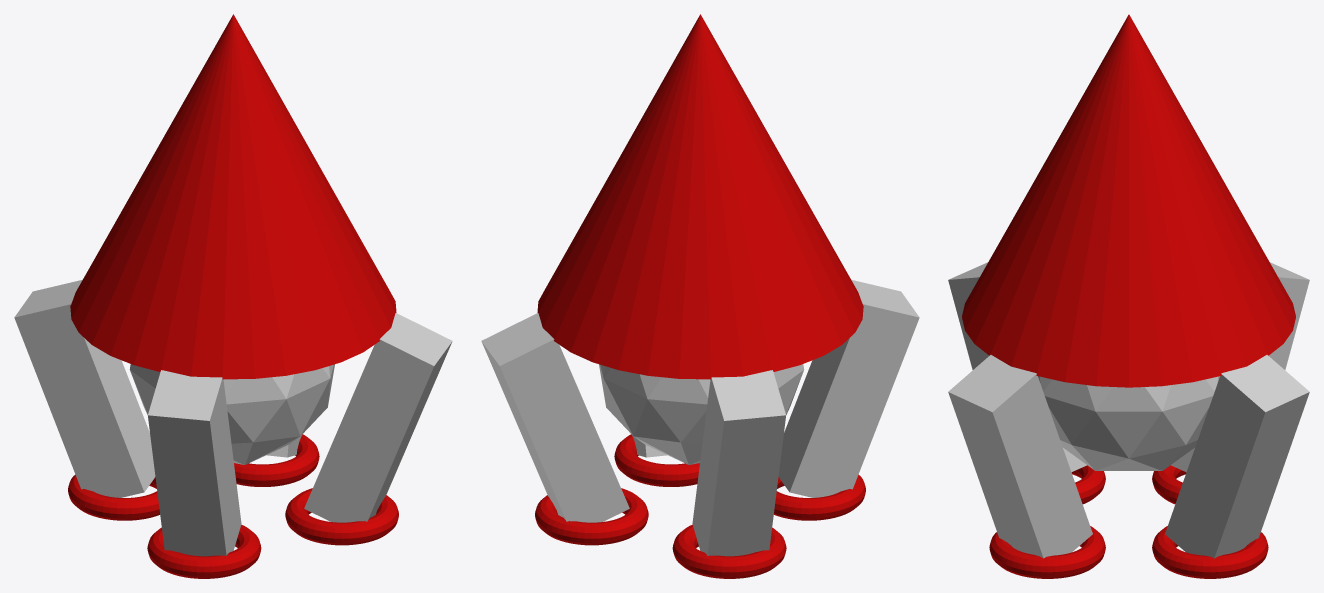
The model's file is Conious.obj.
The picture shows the model from 3 angles, left to right: view 1: azimuth 30°, elevation 25°; view 2: azimuth 150°, elevation 25°; view 3: azimuth 270°, elevation 25°; orthographic projection. The views are drawn at different scales.
Parts seen in each view (by area): view 1: Cone, Cube, Torus, Icosphere; view 2: Cone, Cube, Torus, Icosphere; view 3: Cone, Cube, Icosphere, Torus.
Part boxes in pixels (<box>): Cone: <box>70,14,396,379</box>; Cube: <box>14,280,452,556</box>; Torus: <box>68,434,398,578</box>; Icosphere: <box>129,364,334,464</box>; Cone: <box>537,14,863,379</box>; Cube: <box>481,280,919,556</box>; Torus: <box>535,434,865,578</box>; Icosphere: <box>599,364,804,464</box>; Cone: <box>962,14,1295,387</box>; Cube: <box>948,262,1309,558</box>; Icosphere: <box>1038,376,1219,470</box>; Torus: <box>989,465,1268,578</box>.
Bounding box in the file's own units: 3.32 × 5.19 × 3.34.
